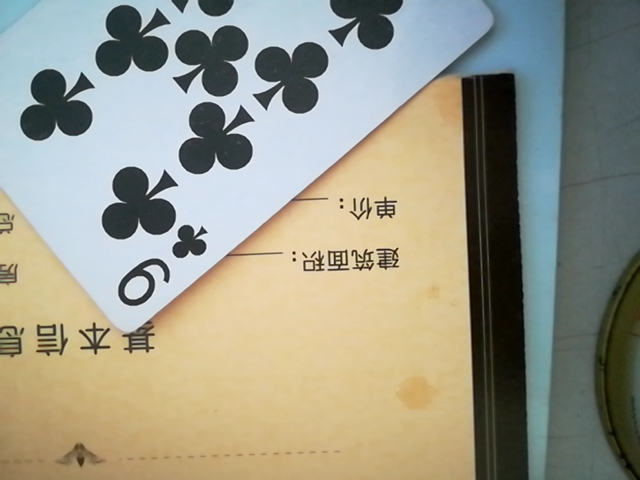mh 9: (5, 0, 511, 340)
